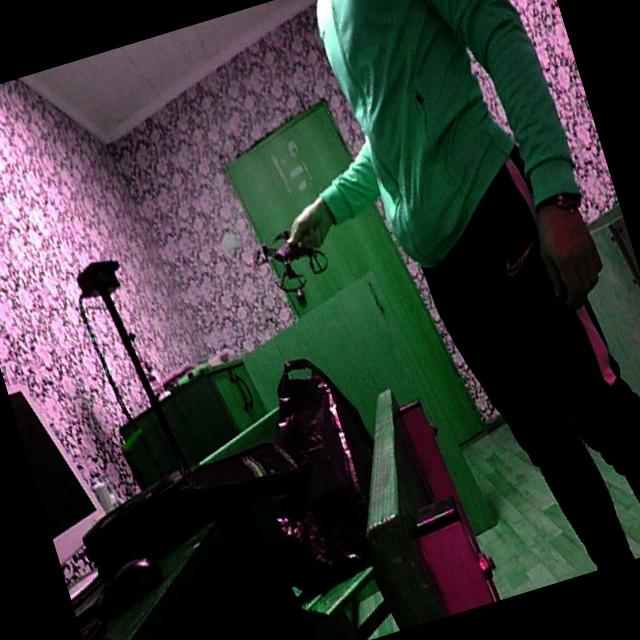drone: (238, 203, 342, 307)
